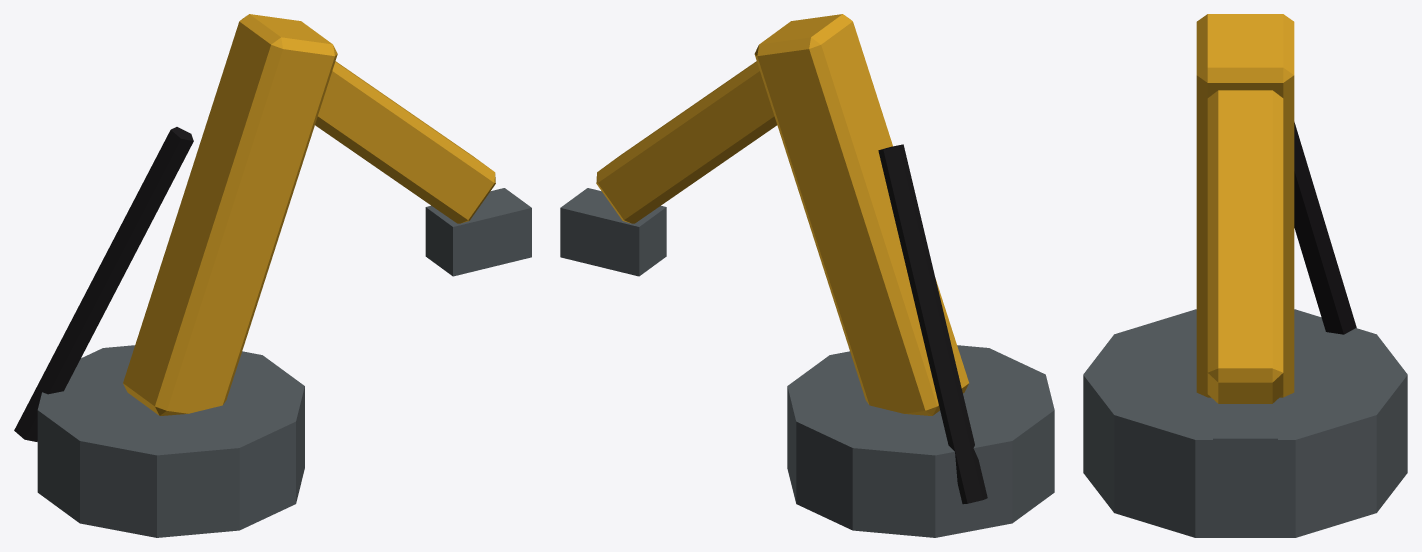
File: deco_robot_arm.glb
3 renders of one model, left to right at view 1: azimuth 30°, elevation 25°; view 2: azimuth 150°, elevation 25°; view 3: azimuth 270°, elevation 25°, orthographic. The views are drawn at different scales.
Parts seen in each view (by area): view 1: seg1, base, seg2, cable, claw; view 2: base, seg1, seg2, cable, claw; view 3: base, seg2, seg1, claw, cable.
Boxes of the visible parts, x1=… form: seg1: x1=123, y1=14, x2=337, y2=415; base: x1=37, y1=345, x2=304, y2=537; seg2: x1=315, y1=61, x2=495, y2=223; cable: x1=14, y1=127, x2=193, y2=441; claw: x1=425, y1=188, x2=531, y2=276; base: x1=787, y1=345, x2=1054, y2=537; seg1: x1=754, y1=14, x2=968, y2=415; seg2: x1=596, y1=61, x2=776, y2=223; cable: x1=878, y1=144, x2=987, y2=504; claw: x1=560, y1=188, x2=666, y2=276; base: x1=1083, y1=309, x2=1407, y2=537; seg2: x1=1207, y1=90, x2=1283, y2=403; seg1: x1=1196, y1=14, x2=1294, y2=397; claw: x1=1213, y1=399, x2=1277, y2=497; cable: x1=1294, y1=122, x2=1356, y2=334.
Size of the model in its own units: 1.17 by 1.05 by 0.6.
